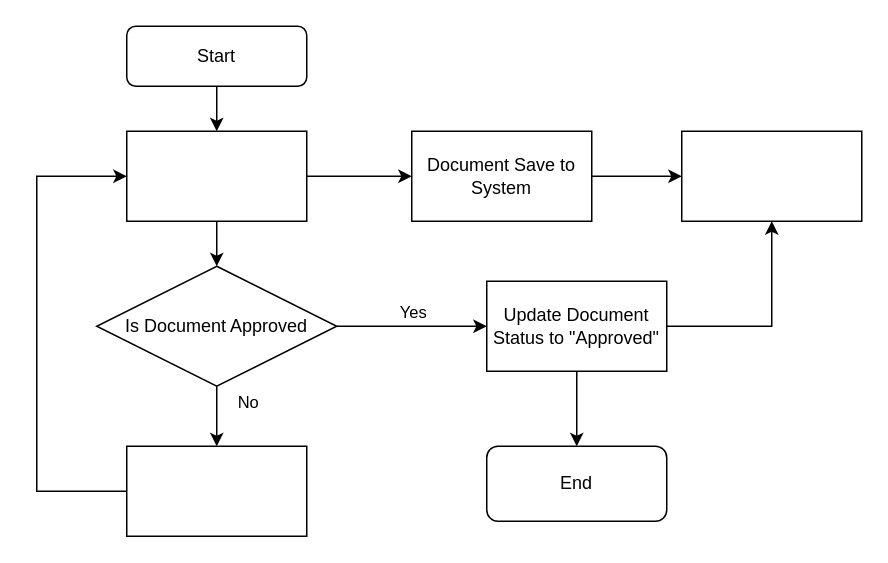
This 888x563 diagram has some shape labels left out. The centre of each missing label's shape, as x and y in pixels:
Document Submitted: (216,175)
Notification to Assigned Approver: (771,175)
Update the document status to "Rejected": (216,490)
